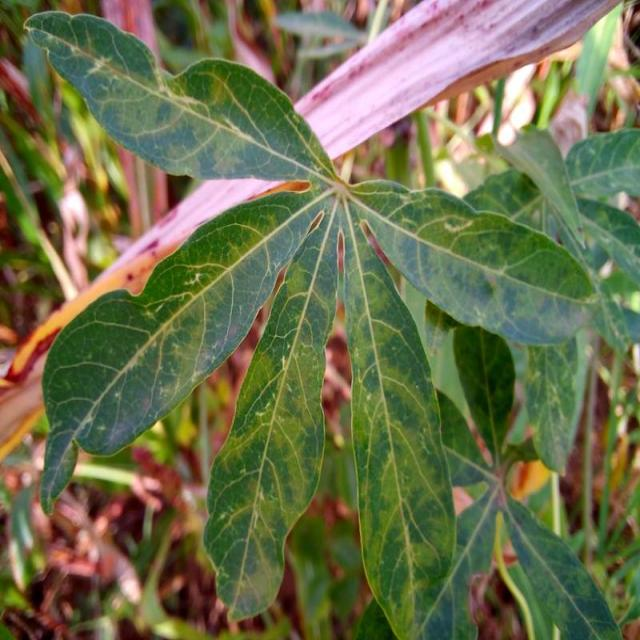cassava leaf: (22, 1, 637, 637), (339, 196, 458, 638)
